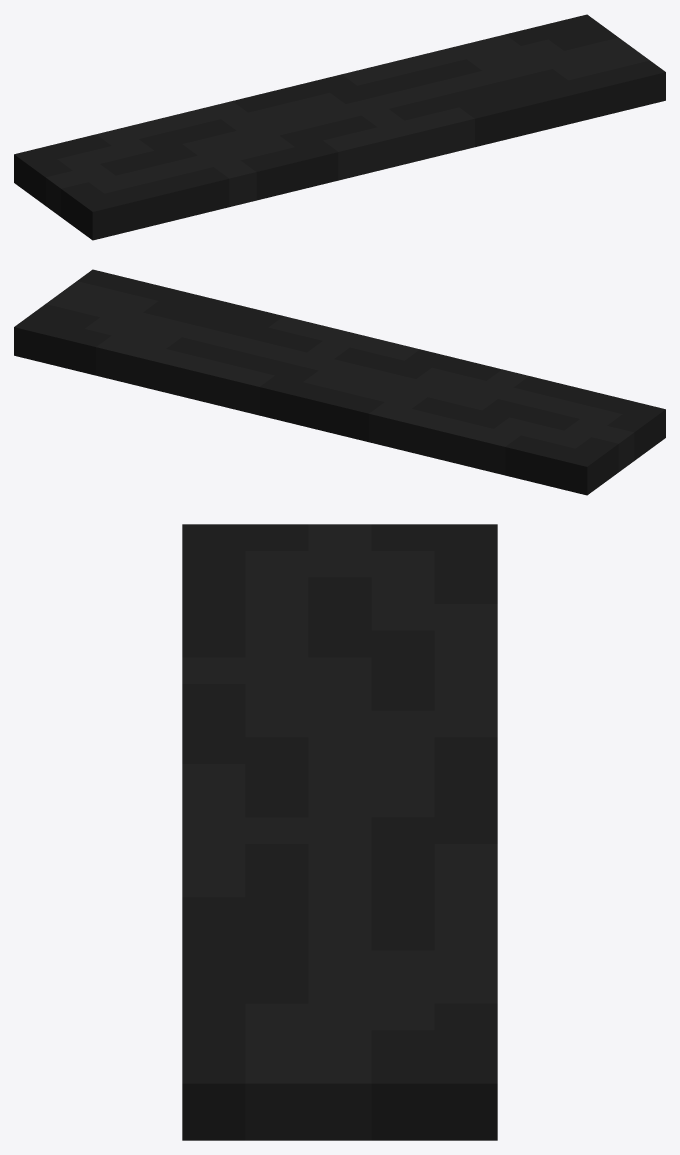
Rendered from ConstructionMaterials-12.obj.
3 views of the same model, one above another, from view 1: azimuth 30°, elevation 25°; view 2: azimuth 150°, elevation 25°; view 3: azimuth 270°, elevation 25° (orthographic). The views are drawn at different scales.
Bounding box in the file's own units: 2.1 × 0.1 × 0.5.
1 material, 1 textured.
